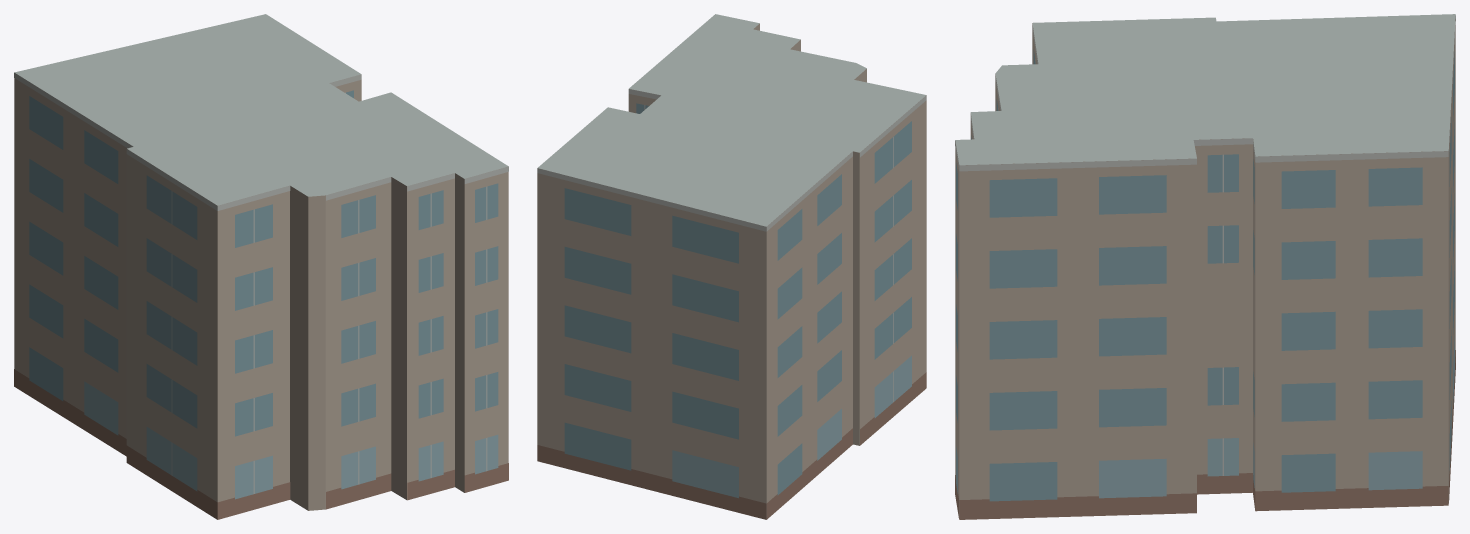
Rendered from survey-upis-32872802.glb.
3 renders of one model, left to right at view 1: azimuth 30°, elevation 25°; view 2: azimuth 150°, elevation 25°; view 3: azimuth 270°, elevation 25°, orthographic. The views are drawn at different scales.
Visible parts, largest first — view 1: survey-upis-32872802.tmp; view 2: survey-upis-32872802.tmp; view 3: survey-upis-32872802.tmp.
Boxes of the visible parts, x1=… form: survey-upis-32872802.tmp: x1=14, y1=14, x2=508, y2=519; survey-upis-32872802.tmp: x1=537, y1=14, x2=926, y2=519; survey-upis-32872802.tmp: x1=955, y1=14, x2=1455, y2=519.
Bounding box in the file's own units: 13 × 14.2 × 18.18.
